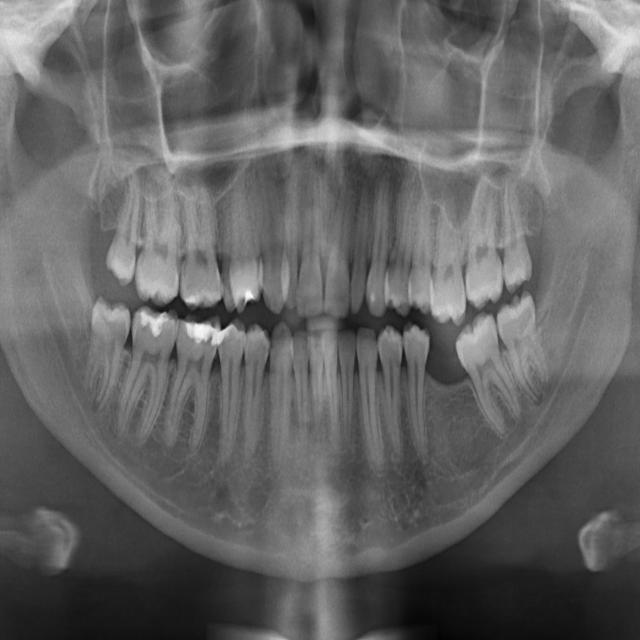3M ESPE Implant: (104, 165, 140, 287)
AGS Medikal Implant: (348, 174, 375, 313)
AMerOss Implant: (366, 163, 391, 316)
Amalgam filling: (385, 171, 420, 317)
Anthogyr Implant: (409, 188, 434, 314)
Bicon Implant: (431, 197, 469, 326)
BioHorizons Implant: (464, 185, 502, 308)
BioLife Implant: (501, 173, 532, 293)
Biomet 3i Implant: (491, 290, 557, 410)
Blue Sky Bio Implant: (448, 310, 526, 442)
Caries: (131, 180, 180, 307)
Composite filling: (403, 321, 431, 463)
Cowellmedi Implant: (377, 325, 408, 459)
Crown: (355, 327, 385, 463)
DENTSPLY Implant: (338, 331, 362, 448)
Dentatus Implant: (322, 330, 344, 450)
Dentis Implant: (306, 333, 333, 432)
Dentium Implant: (292, 331, 309, 448)
Euroteknika Implant: (269, 322, 292, 471)
Filling: (228, 324, 272, 459)
Frontier Implant: (204, 316, 247, 467)
Hiossen Implant: (180, 183, 221, 312)
Implant: (111, 304, 181, 444)
Implant Direct: (157, 310, 224, 452)
Keystone Dental Implant: (79, 294, 134, 416)
MIS Implant: (217, 207, 236, 311)
Mandible: (224, 165, 262, 313)
Maxilla: (258, 162, 284, 314)
Megagen Implant: (283, 159, 299, 309)
Neodent Implant: (298, 156, 326, 317)
Neoss Implant: (324, 162, 356, 316)
